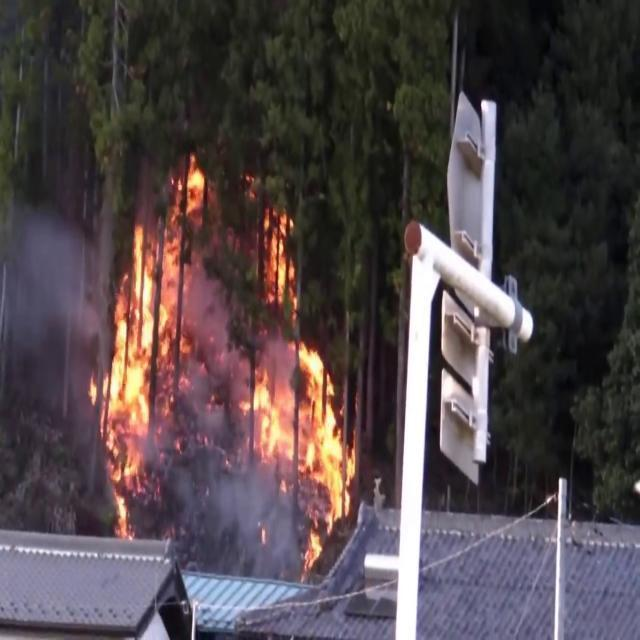Fire: (241, 194, 357, 556), (92, 162, 200, 532)
Smoke: (0, 190, 107, 361)
